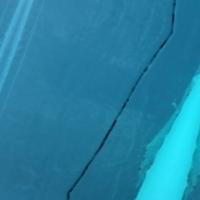crack: (62, 1, 172, 200)
